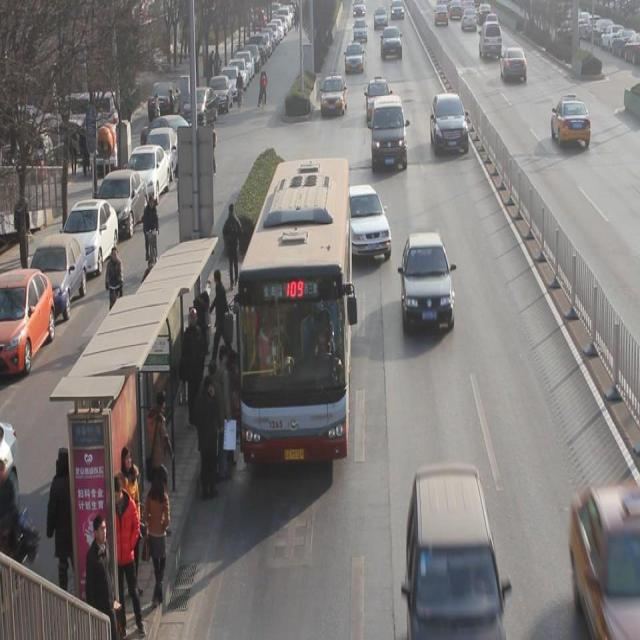car: (400, 231, 454, 332), (342, 182, 392, 260), (431, 94, 469, 153), (551, 94, 591, 148), (365, 76, 392, 122), (322, 72, 346, 115), (500, 46, 527, 82), (381, 25, 403, 60), (345, 39, 364, 74)
truck: (405, 464, 505, 640), (372, 95, 407, 170), (479, 22, 502, 57)
van: (236, 156, 349, 458)
